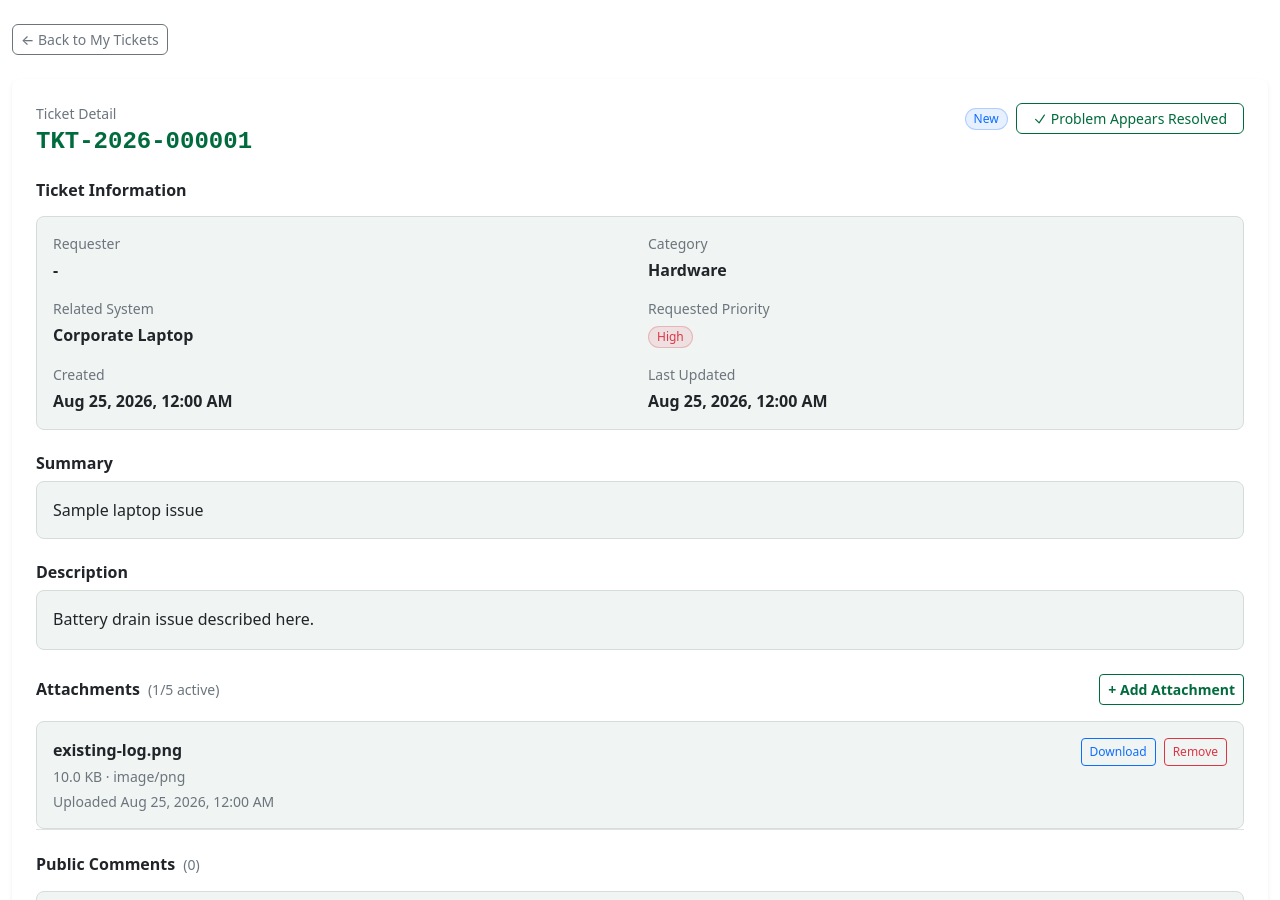
Scenario: Attachment Section & Upload UI Tests (Lab 2) › opens removal modal and validates reason length on Remove click
The width and height of the screenshot is (1280, 900).
Check: the text "existing-log.png" is shown, box x1=53 y1=739 x2=182 y2=761
Click the button "Remove" at (1195, 752), box x1=1164 y1=738 x2=1227 y2=766
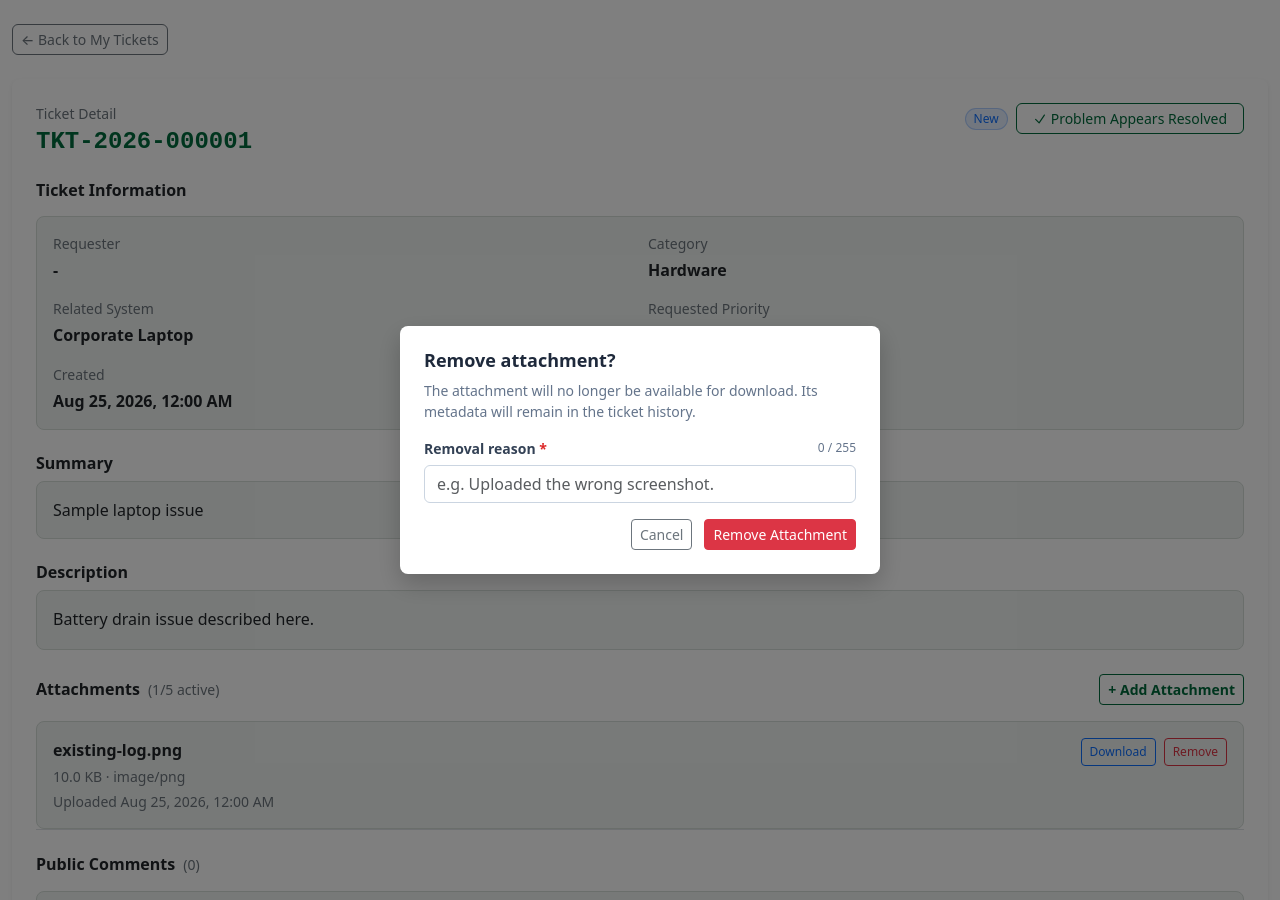
Check: the heading "Remove attachment?" is shown, box x1=424 y1=348 x2=616 y2=372
Check: the text "The attachment will no longer be available for download" is shown, box x1=424 y1=381 x2=818 y2=421
Click the button "Remove Attachment" at (780, 534), box x1=704 y1=519 x2=856 y2=550
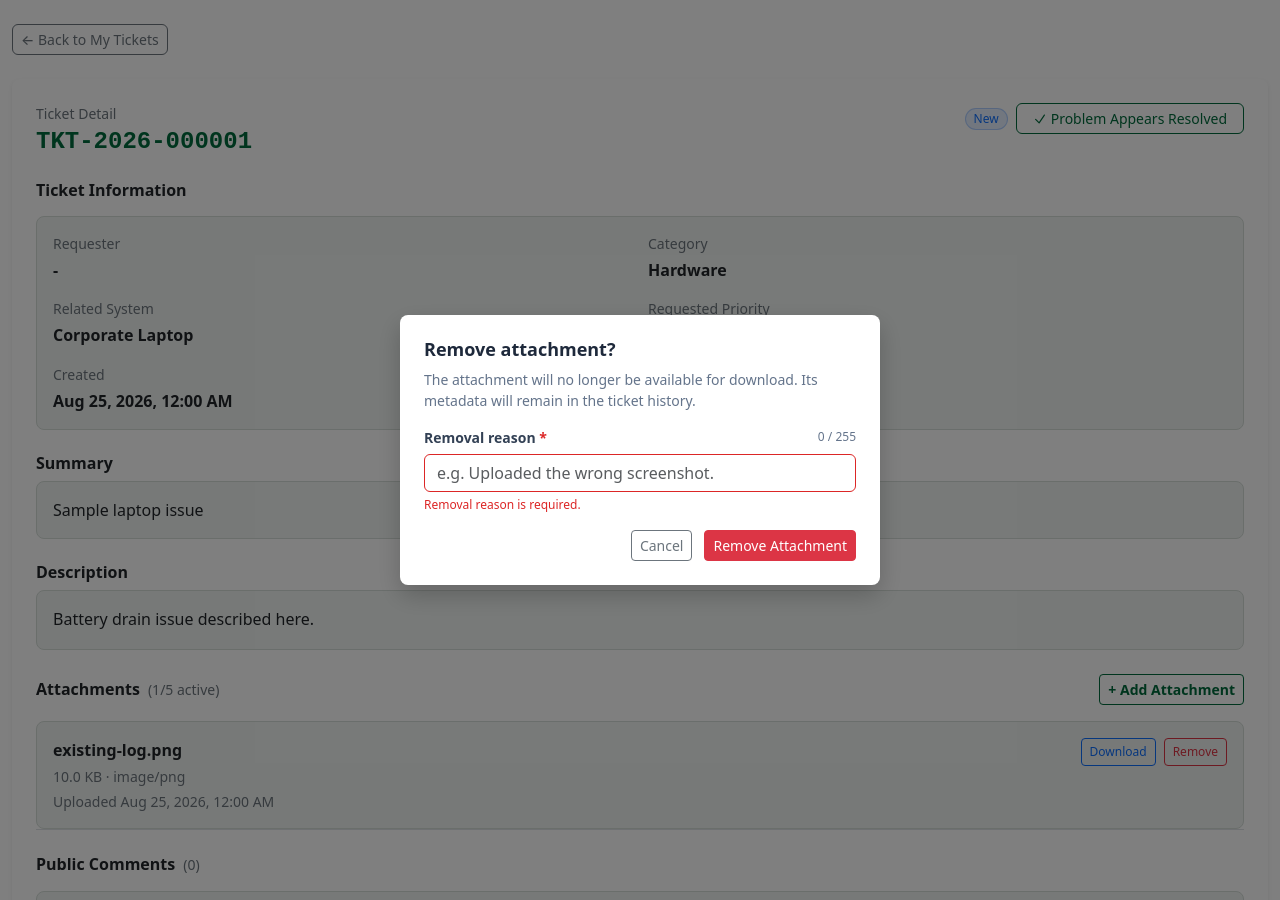
Check: the text "Removal reason is required." is shown, box x1=424 y1=496 x2=581 y2=513
Type "ab" into the field with placeholder "e.g. Uploaded the wrong screenshot." at (640, 473), box x1=424 y1=454 x2=856 y2=492
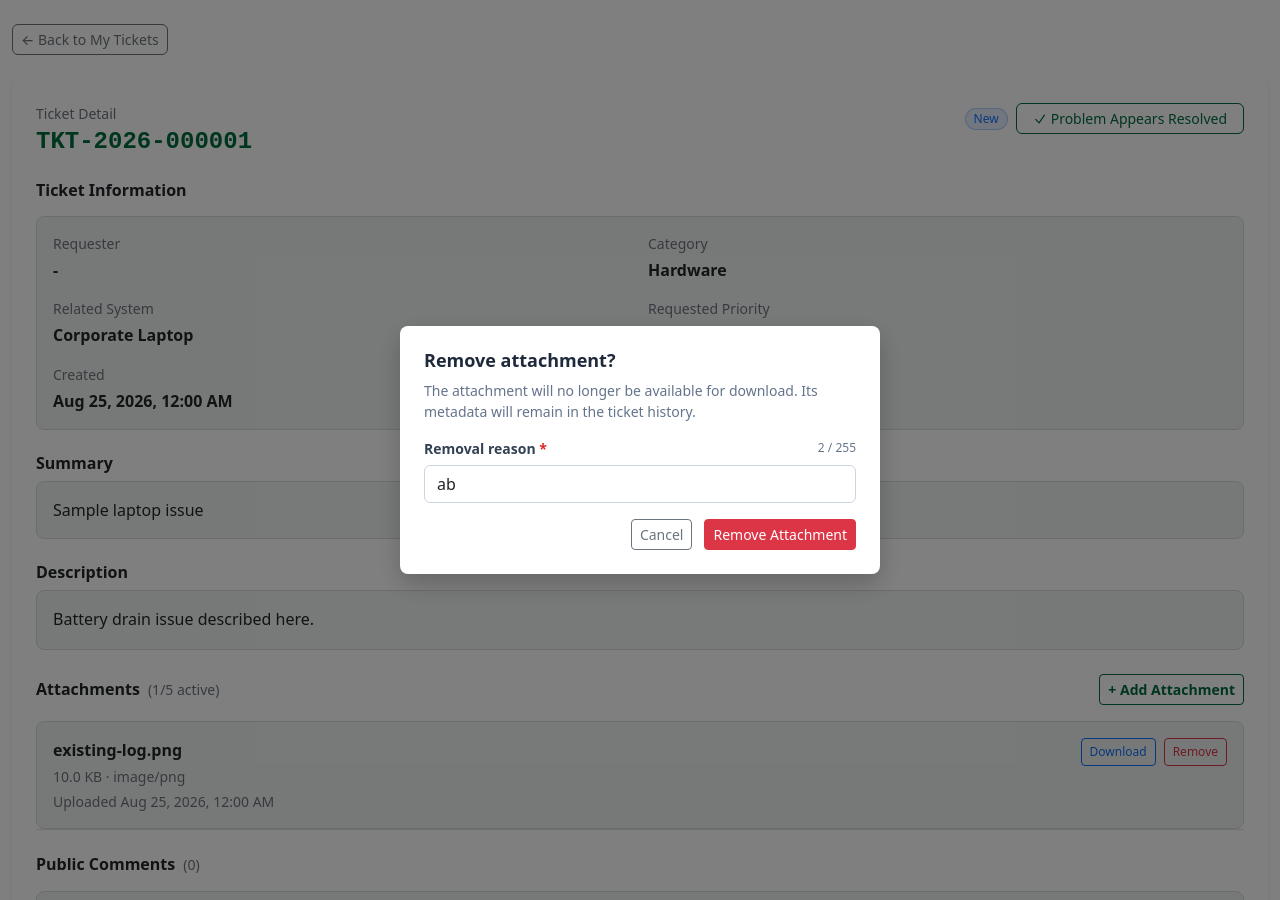
Click the button "Remove Attachment" at (780, 534), box x1=704 y1=519 x2=856 y2=550
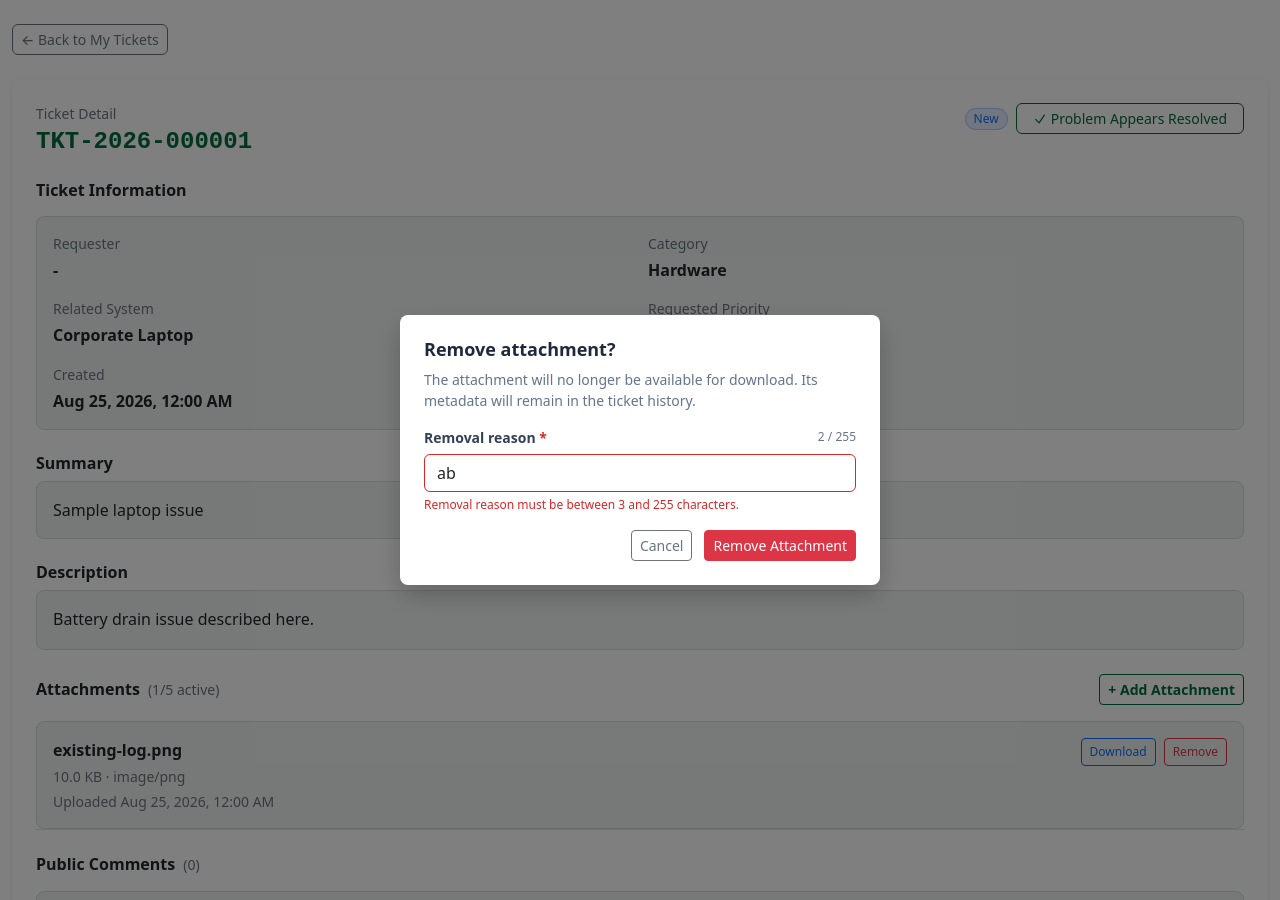
Check: the text "Removal reason must be between 3 and 255 characters." is shown, box x1=424 y1=496 x2=739 y2=513
Cancel closes modal
Click the button "Cancel" at (662, 545), box x1=631 y1=530 x2=692 y2=561
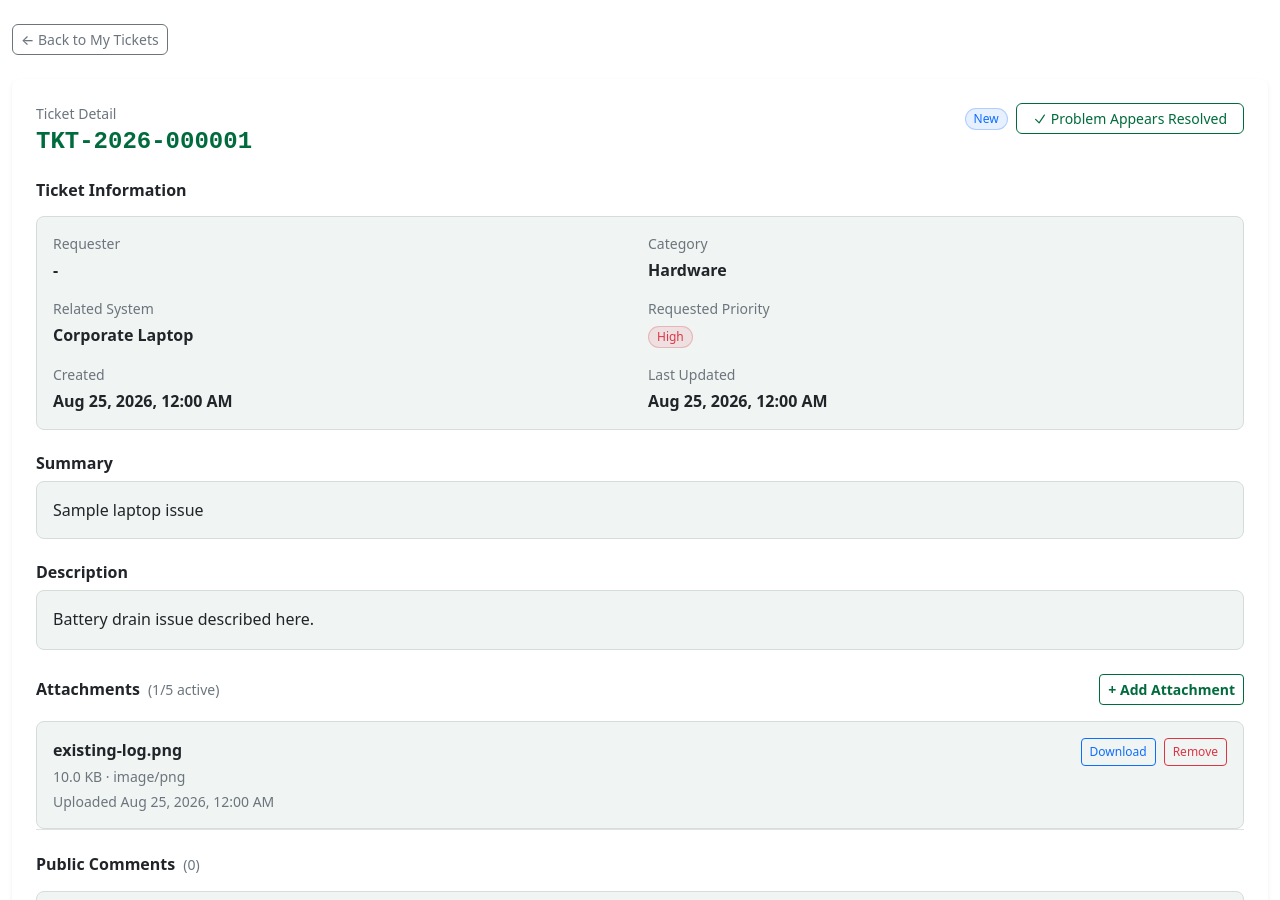
Check: the heading "Remove attachment?" is gone
